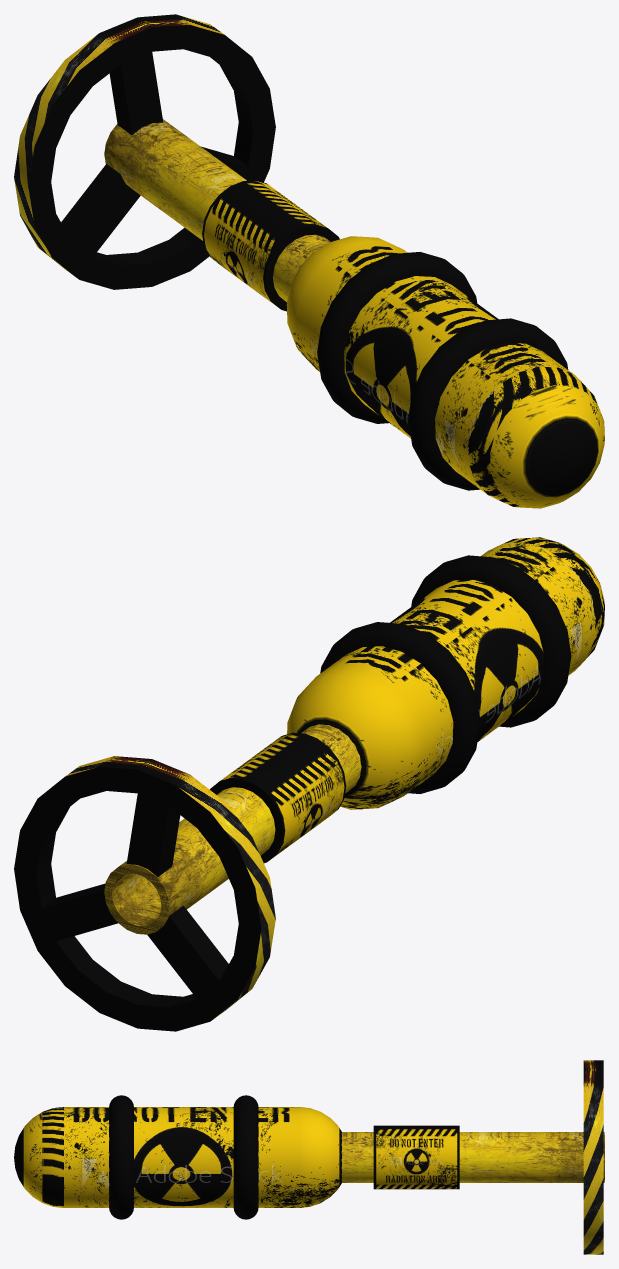
Rendered from radiation_bomb.fbx.
3 renders of one model, top to bottom at view 1: azimuth 30°, elevation 25°; view 2: azimuth 150°, elevation 25°; view 3: azimuth 270°, elevation 25°, orthographic. The views are drawn at different scales.
Visible parts, largest first — view 1: polySurface5; view 2: polySurface5; view 3: polySurface5.
Part boxes in pixels (x1,y1,x2,y2): polySurface5: (14,14,604,508); polySurface5: (14,537,604,1031); polySurface5: (14,1060,604,1254).
Size of the model in its own units: 3.12 by 3.12 by 9.43.
